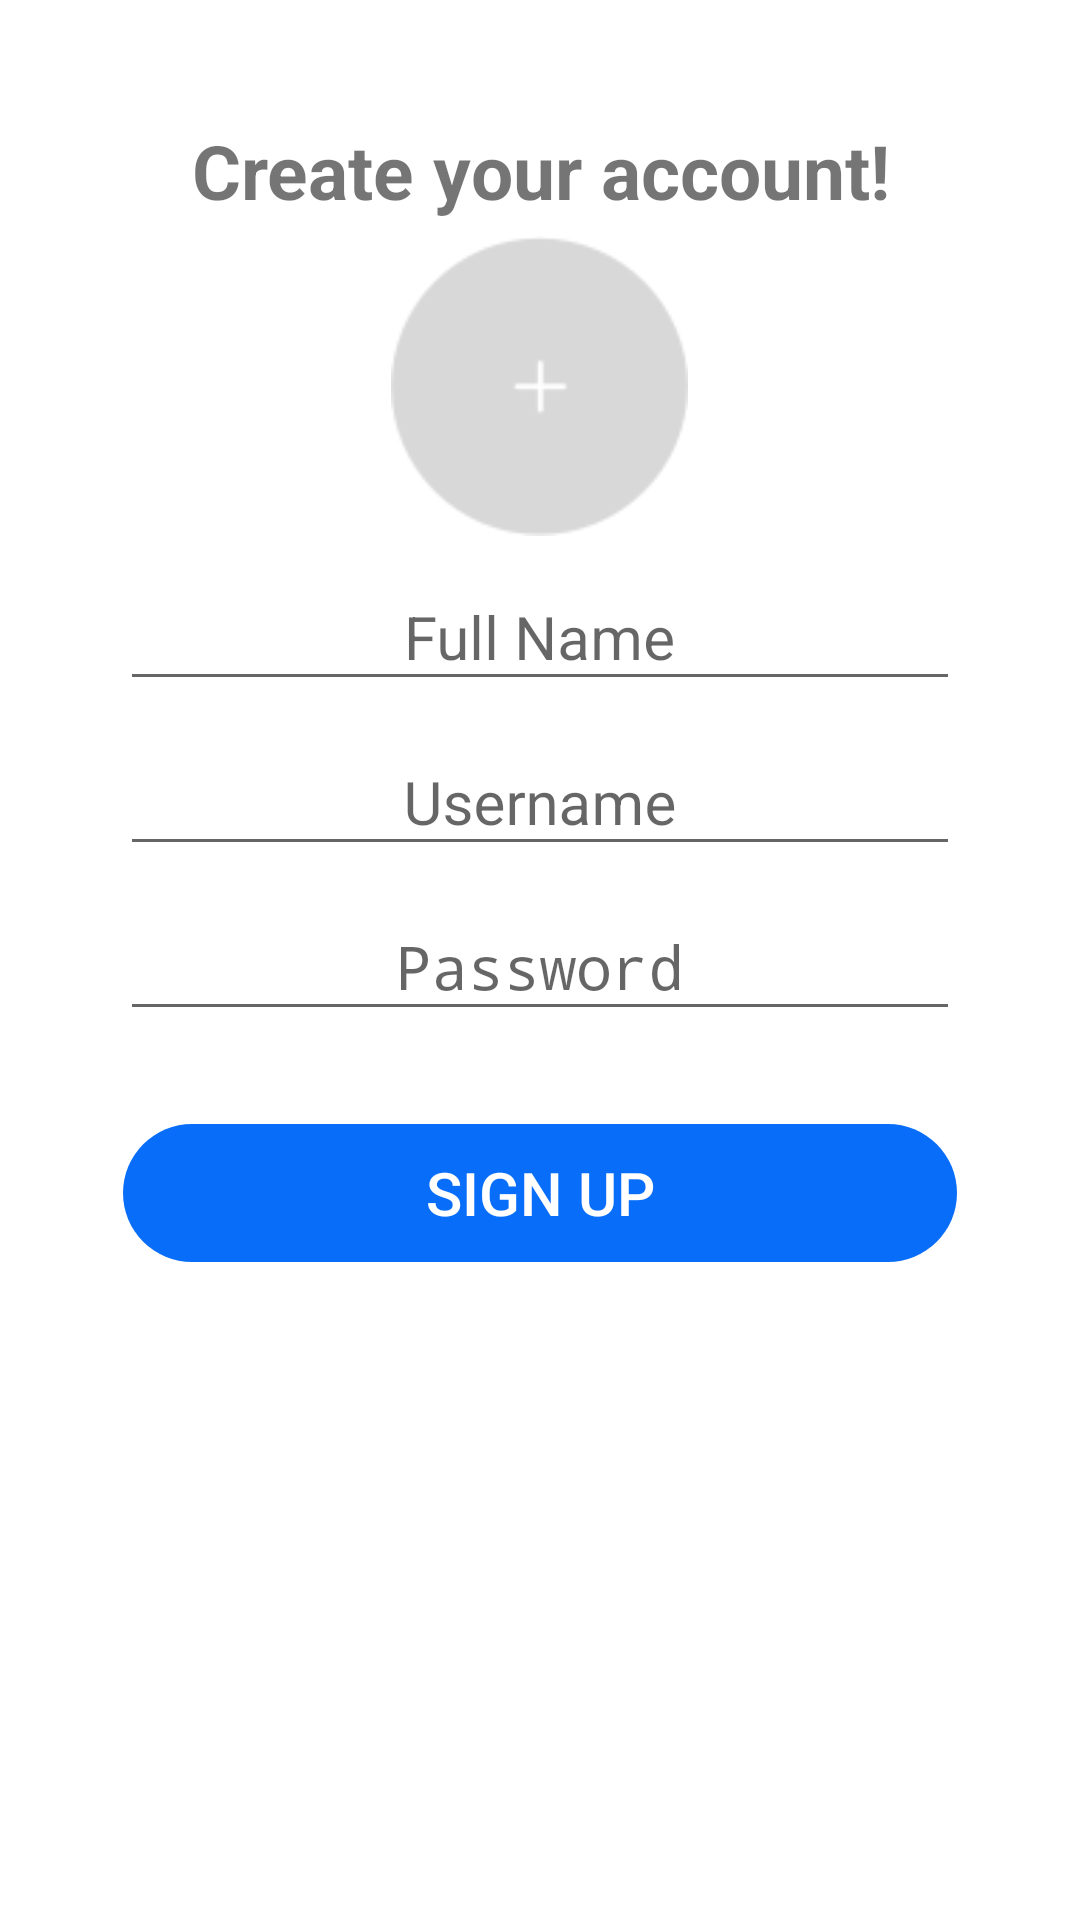

Where to tap for icons on this 1080*1920 app screen, as (x=x, y=y):
addimage: (x=539, y=386)
